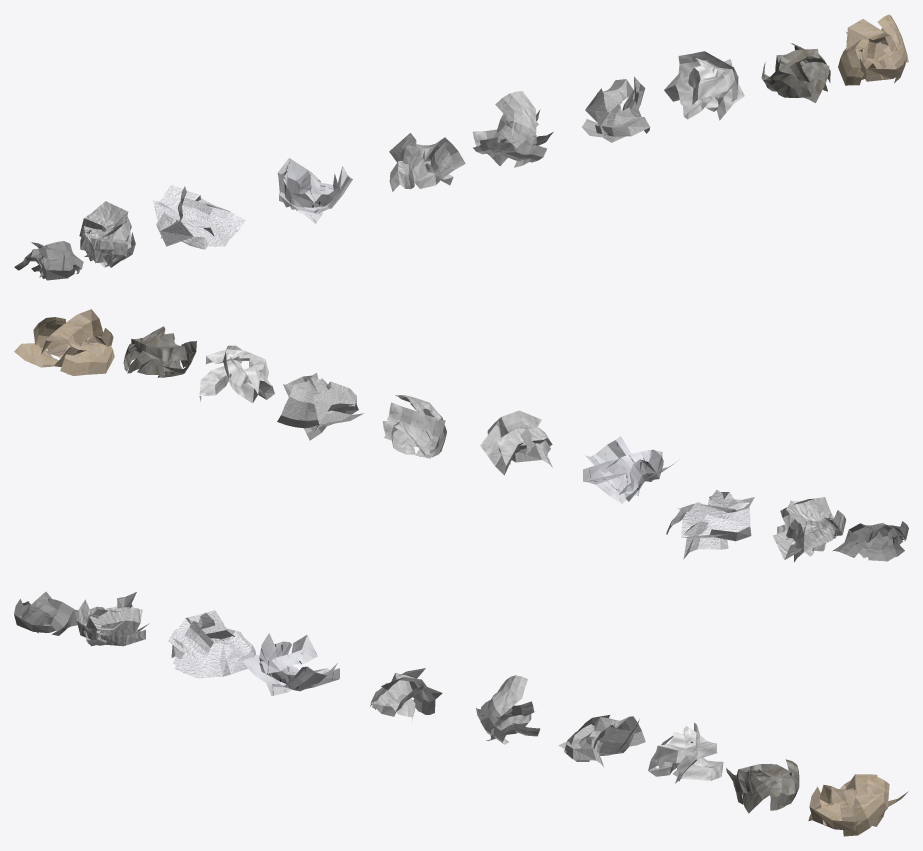
Rendered from Crumpled Paper Set.dae.
The picture shows the model from 3 angles, top to bottom: view 1: azimuth 30°, elevation 25°; view 2: azimuth 150°, elevation 25°; view 3: azimuth 330°, elevation 25°; orthographic projection. The views are drawn at different scales.
Visible parts, largest first — view 1: group_6 (×3), group_9 (×4), group_10 (×3), group_13 (×3), group_5 (×3), group_7 (×3), group_11 (×3), group_8 (×3), group_3, group_2, group_12; view 2: group_9 (×4), group_6 (×4), group_5 (×3), group_11 (×3), group_13 (×3), group_7 (×3), group_10 (×3), group_8 (×2), group_12 (×3), group_4; view 3: group_6 (×4), group_9 (×3), group_5 (×3), group_11 (×4), group_8 (×3), group_7 (×2), group_10 (×2), group_13 (×2), group_12 (×2), group_3.
Part boxes in pixels (bbox=[...]): group_6 (×3): bbox=[153, 184, 245, 249]; group_9 (×4): bbox=[838, 14, 907, 85]; group_10 (×3): bbox=[664, 51, 738, 119]; group_13 (×3): bbox=[389, 133, 465, 191]; group_5 (×3): bbox=[277, 158, 352, 223]; group_7 (×3): bbox=[79, 201, 135, 267]; group_11 (×3): bbox=[585, 79, 650, 142]; group_8 (×3): bbox=[761, 48, 829, 102]; group_3: bbox=[495, 91, 536, 153]; group_2: bbox=[479, 137, 546, 162]; group_12: bbox=[31, 242, 69, 278]; group_9 (×4): bbox=[14, 309, 114, 375]; group_6 (×4): bbox=[666, 490, 754, 559]; group_5 (×3): bbox=[583, 436, 675, 503]; group_11 (×3): bbox=[277, 373, 363, 440]; group_13 (×3): bbox=[480, 410, 552, 475]; group_7 (×3): bbox=[773, 497, 846, 562]; group_10 (×3): bbox=[199, 349, 274, 403]; group_8 (×2): bbox=[127, 326, 187, 374]; group_12 (×3): bbox=[832, 523, 905, 561]; group_4: bbox=[387, 402, 445, 449]; group_6 (×4): bbox=[168, 610, 255, 678]; group_9 (×3): bbox=[809, 774, 889, 836]; group_5 (×3): bbox=[242, 633, 339, 695]; group_11 (×4): bbox=[558, 715, 645, 766]; group_8 (×3): bbox=[735, 759, 799, 813]; group_7 (×2): bbox=[76, 599, 145, 646]; group_10 (×2): bbox=[654, 726, 723, 783]; group_13 (×2): bbox=[370, 668, 442, 716]; group_12 (×2): bbox=[21, 591, 77, 635]; group_3: bbox=[480, 675, 527, 728].
Size of the model in its own units: 92.81 by 10.29 by 7.85.
